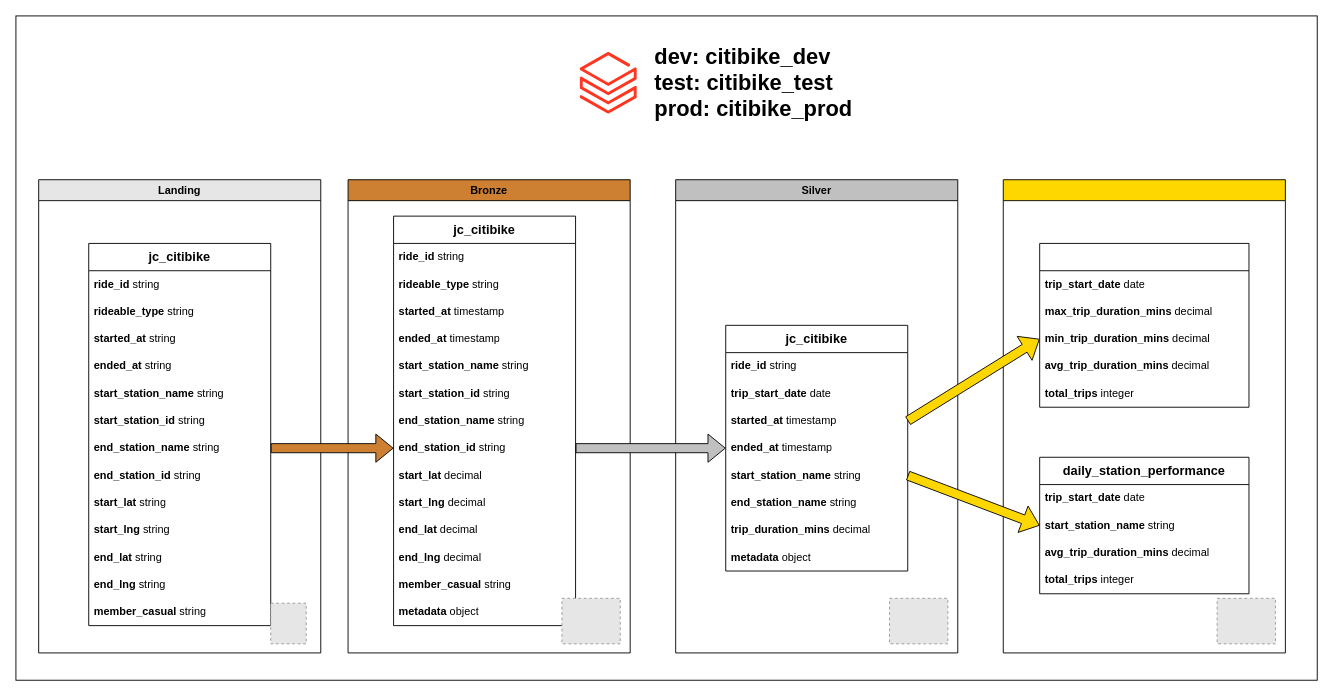
Image size: 1333x696. Some labels were removed from this diagram. Grey dashed boxes stand in for pictures. The shapes that lost their labels are listed below. From the top down, each one's box as (x1, y1, x2, y2) in pixels, then its label:
(1039, 243, 1249, 407): daily_ride_summary
(1002, 179, 1285, 653): Gold
